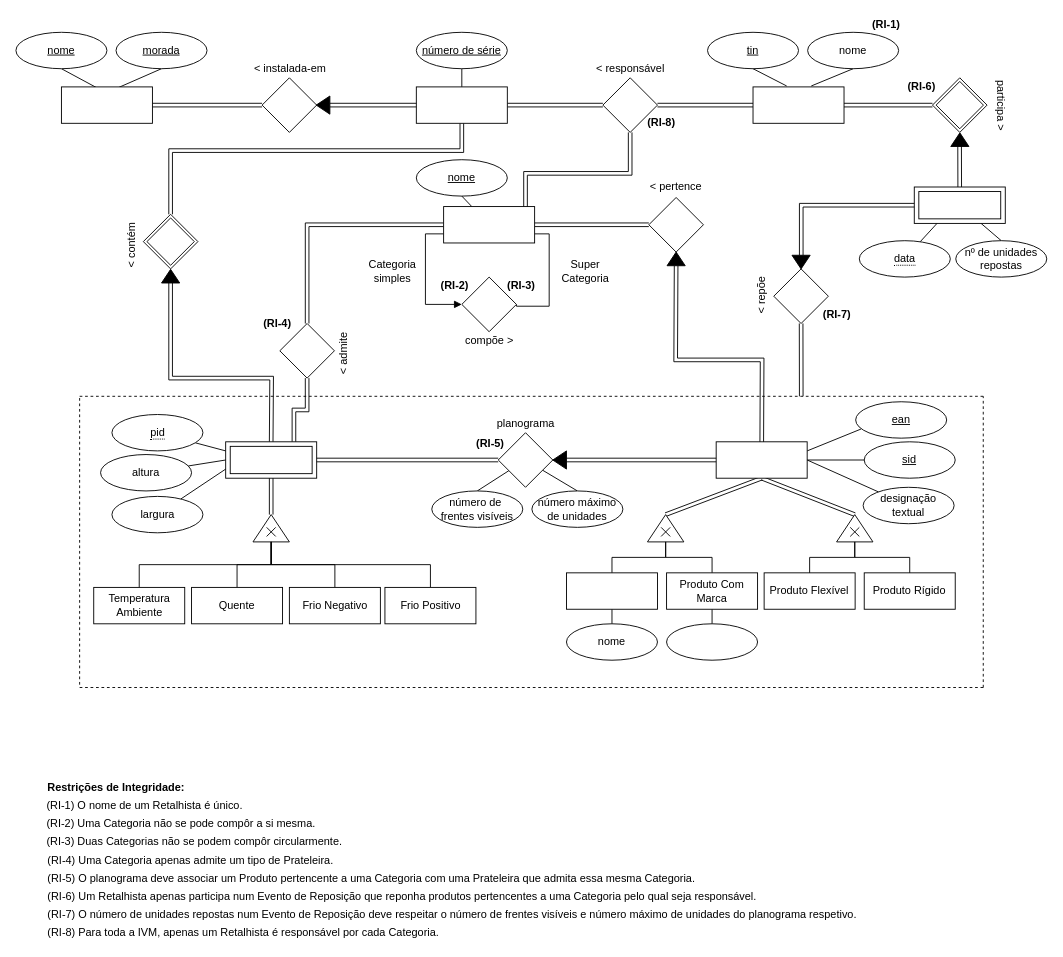
Image size: 1063x957. Some labels were removed from this diagram. The box of each missing label's shape, as (x1, y1, x2, y2) in pixels:
Categoria: (443, 206, 535, 243)
Evento de Reposição: (913, 186, 1005, 223)
IVM: (415, 86, 507, 123)
marca: (666, 623, 758, 660)
Ponto de Retalho: (61, 86, 152, 123)
Prateleira: (225, 441, 317, 478)
Produto: (715, 441, 807, 478)
Produto Com Nome: (566, 572, 657, 609)
Retalhista: (752, 86, 844, 123)
